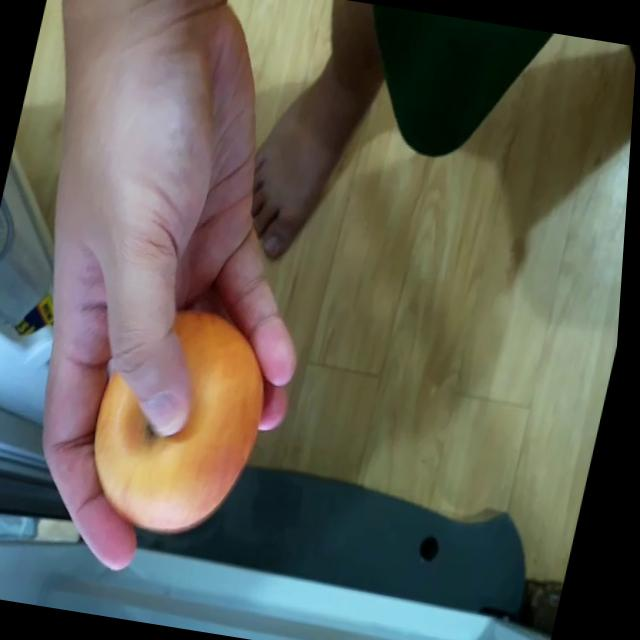apple: (81, 296, 285, 538)
